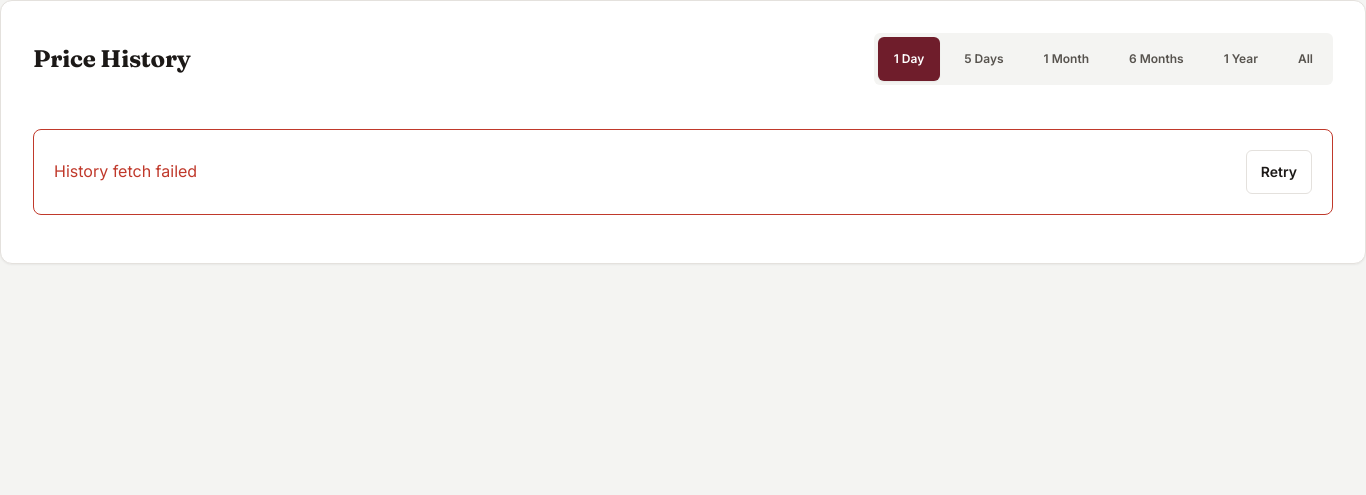
Scenario: PriceHistoryChart shell › shows the fetch error with a Retry that refetches
Expected: the text "History fetch failed" is shown, [54,159,197,185]
Click the button "Retry": (1279,172) [1246,150,1312,194]
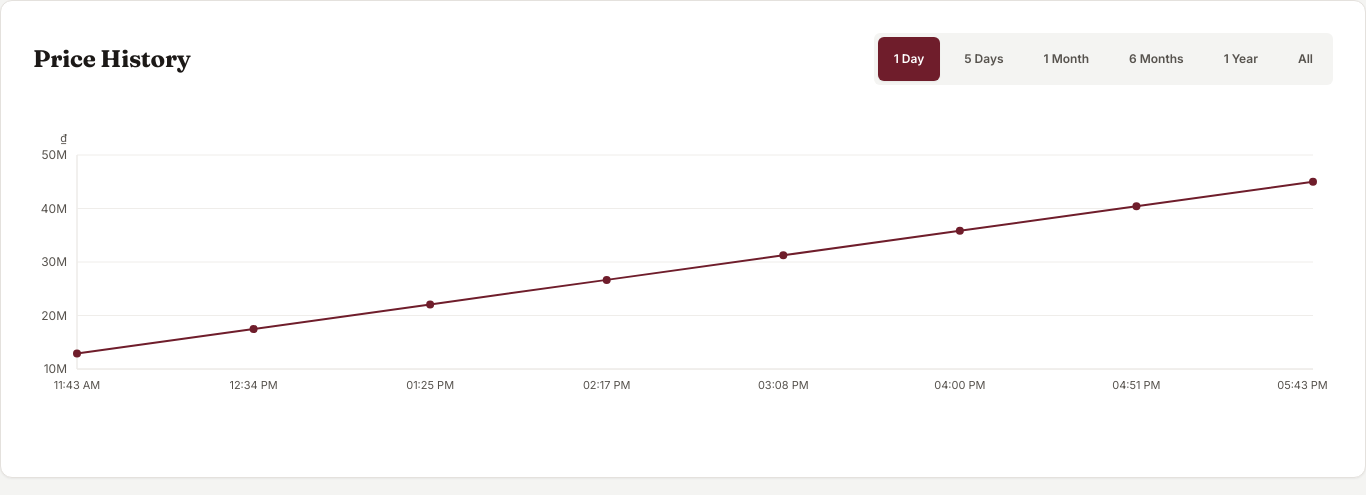
Expected: the picture is shown, [33,129,1333,429]
Expected: the text "History fetch failed" is gone
